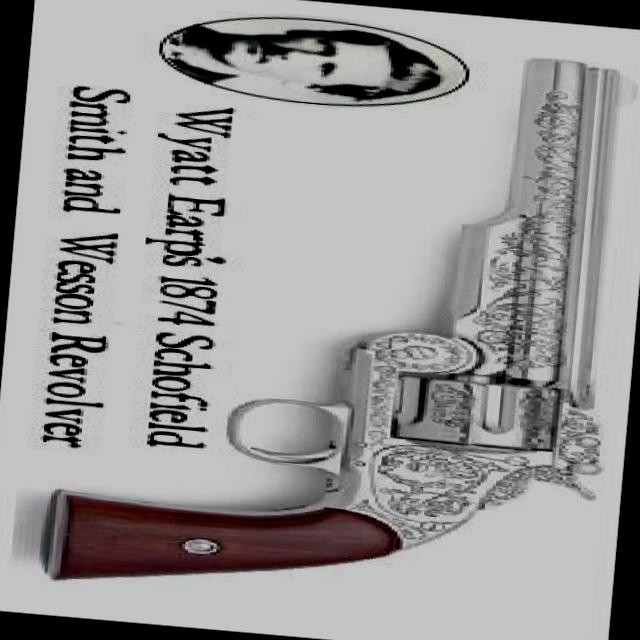handgun: (32, 6, 639, 632)
